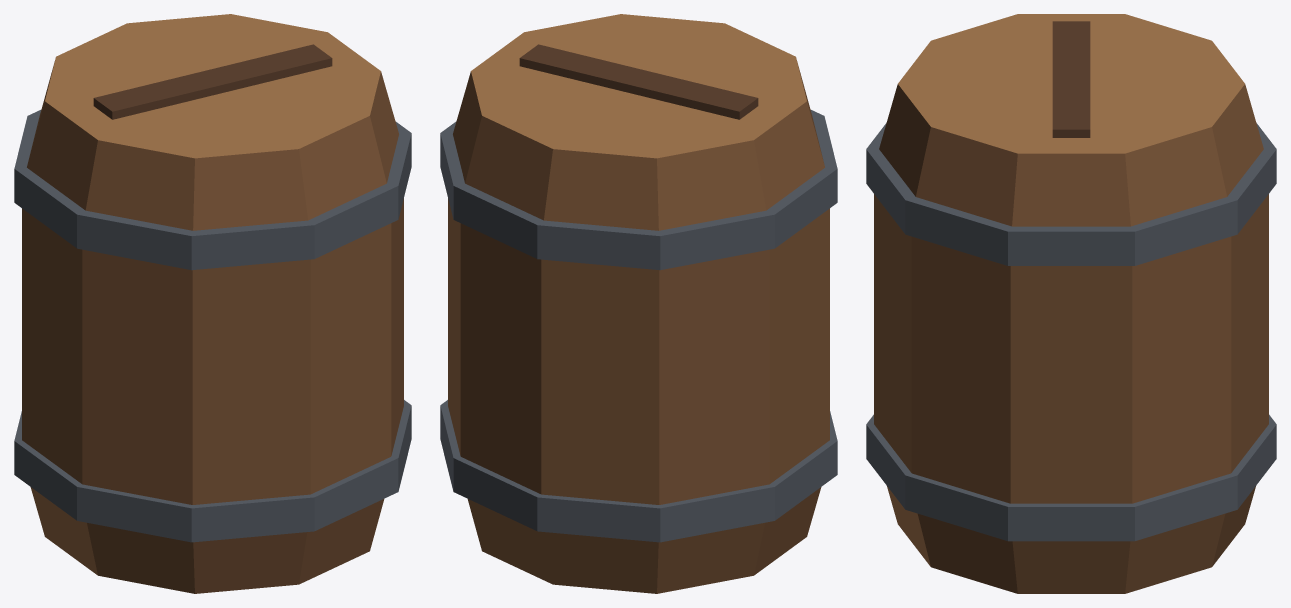
The model's file is prop_barrel.glb.
The picture shows the model from 3 angles, left to right: view 1: azimuth 30°, elevation 25°; view 2: azimuth 150°, elevation 25°; view 3: azimuth 270°, elevation 25°; orthographic projection.
Visible parts, largest first — view 1: prop_barrel; view 2: prop_barrel; view 3: prop_barrel.
Boxes of the visible parts, x1,y1,x2,y2 form: prop_barrel: [14, 14, 411, 593]; prop_barrel: [440, 14, 837, 593]; prop_barrel: [866, 14, 1276, 593].
Size of the model in its own units: 0.2572 by 0.326 by 0.2704.
1 material, 1 textured.
